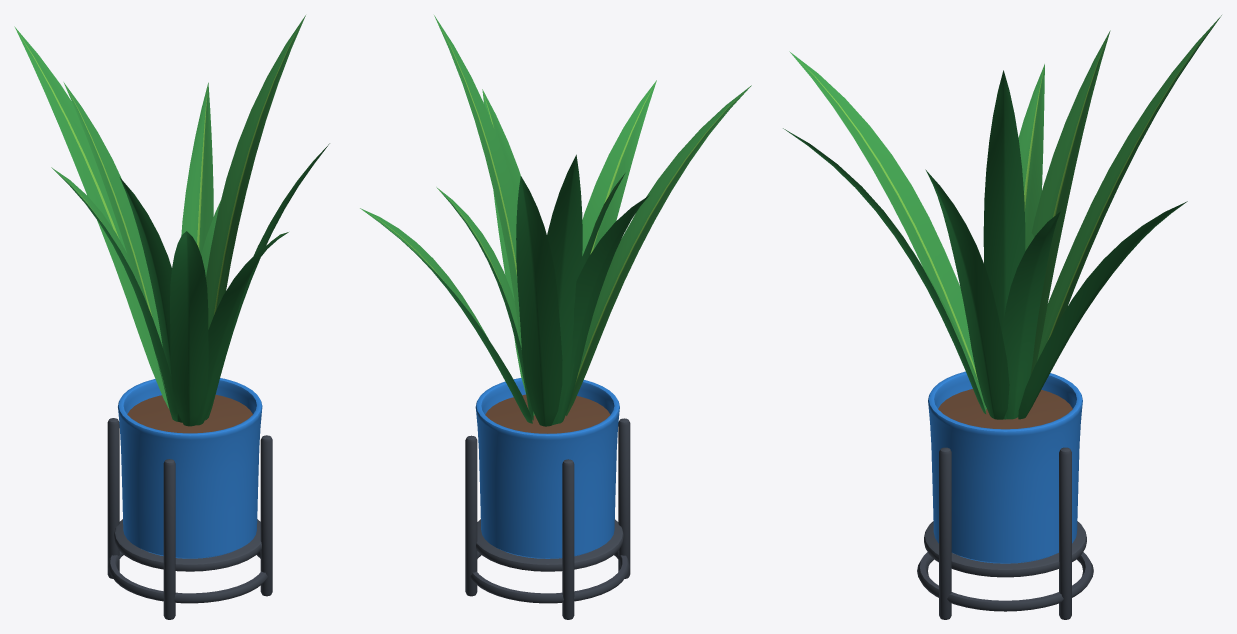
The model's file is planta_espada_suporte.glb.
3 views of the same model, side by side, from view 1: azimuth 30°, elevation 25°; view 2: azimuth 150°, elevation 25°; view 3: azimuth 270°, elevation 25° (orthographic). The views are drawn at different scales.
Parts seen in each view (by area): view 1: planta_espada_suporte; view 2: planta_espada_suporte; view 3: planta_espada_suporte.
Part boxes in pixels (x1=…): planta_espada_suporte: x1=14, y1=15, x2=329, y2=619; planta_espada_suporte: x1=360, y1=15, x2=751, y2=619; planta_espada_suporte: x1=783, y1=15, x2=1221, y2=619.
Size of the model in its own units: 0.5919 by 1.3 by 0.894.
1 material, 1 textured.
